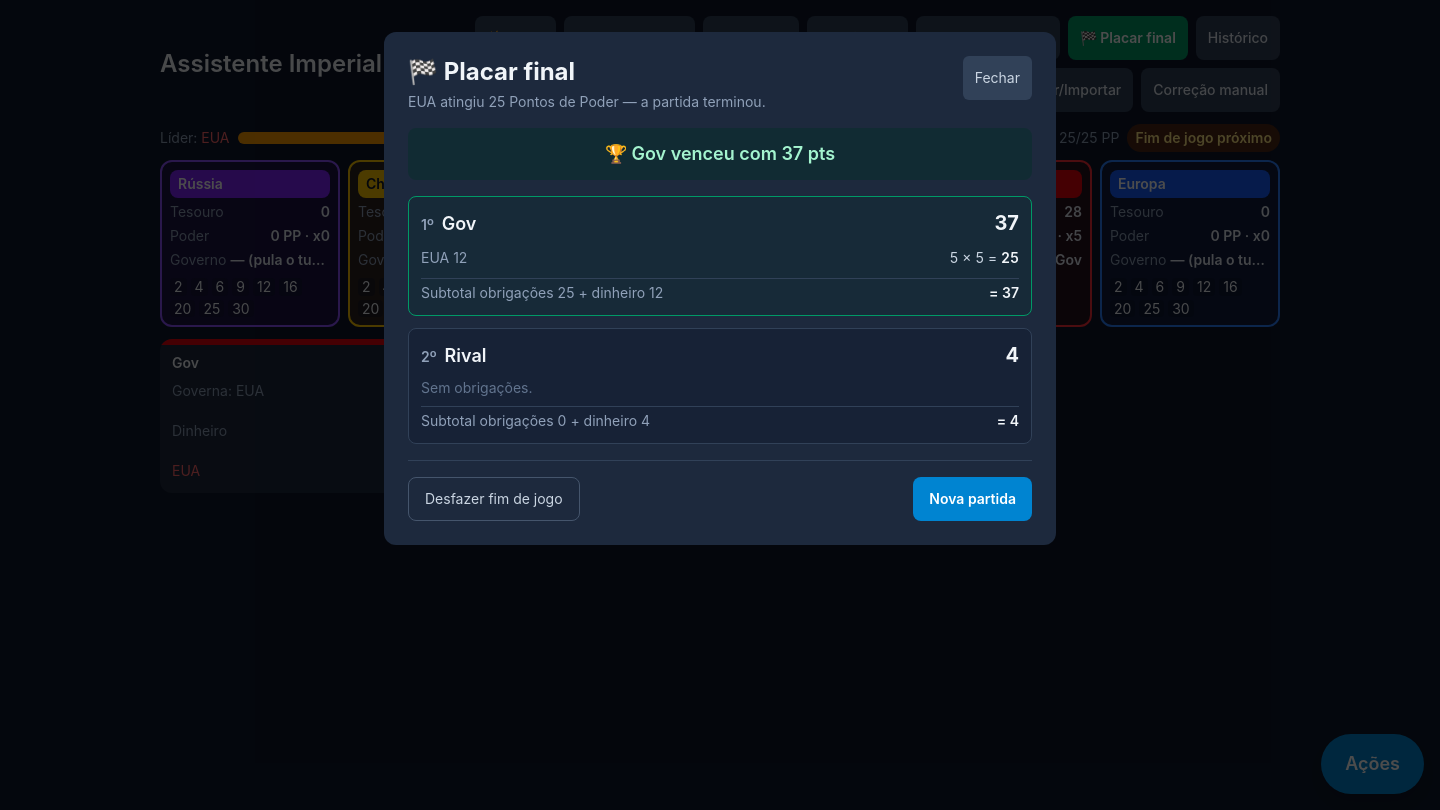
PlacarFinal — fim de jogo ponta a ponta › desfazer o fim de jogo fecha o placar e reabilita as ações
Step 1. Click the button "Desfazer fim de jogo" → point(494, 499), box [408,477,580,521]
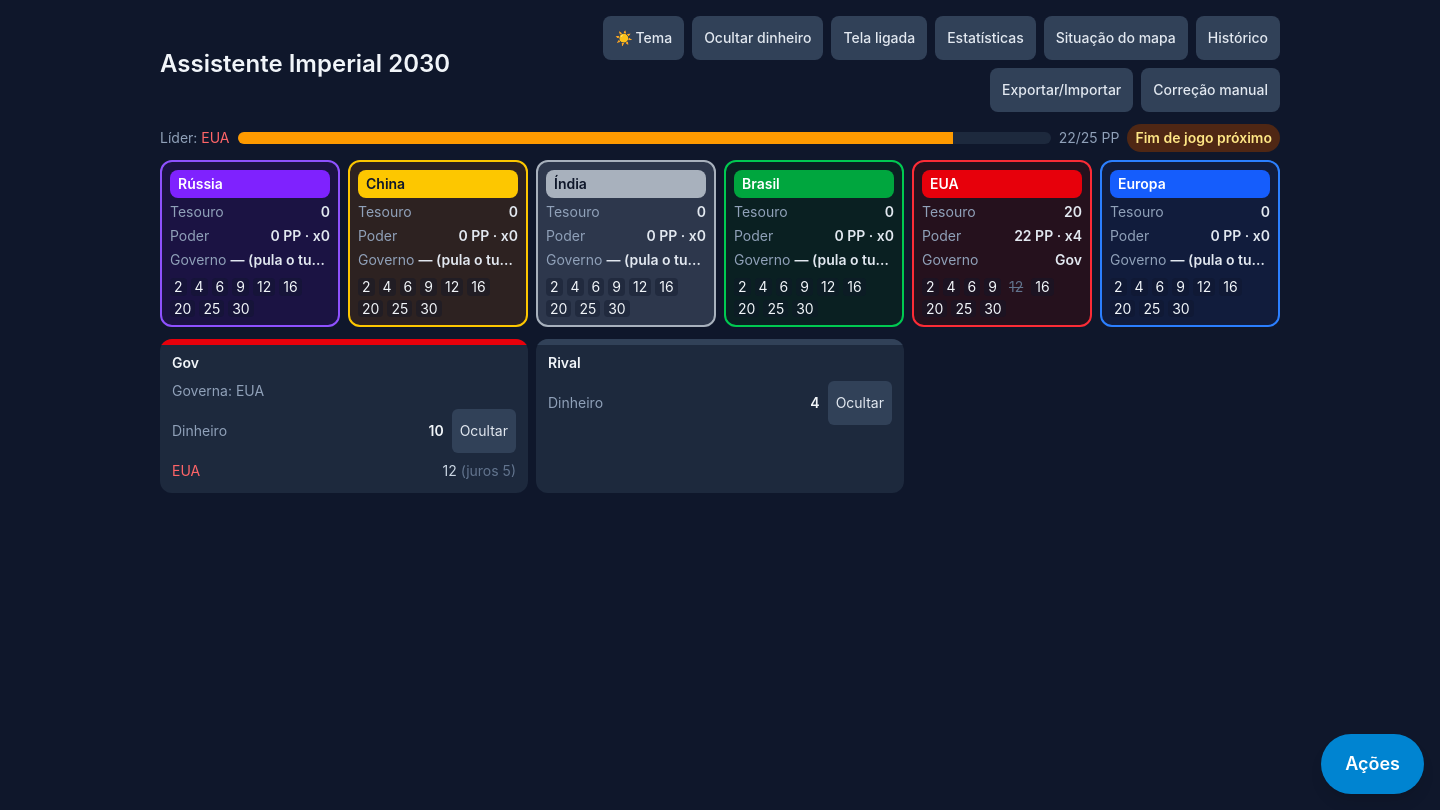
Now the button "Placar final" is gone
Step 2. Click the button "Ações" → point(1373, 764), box [1321,734,1424,794]
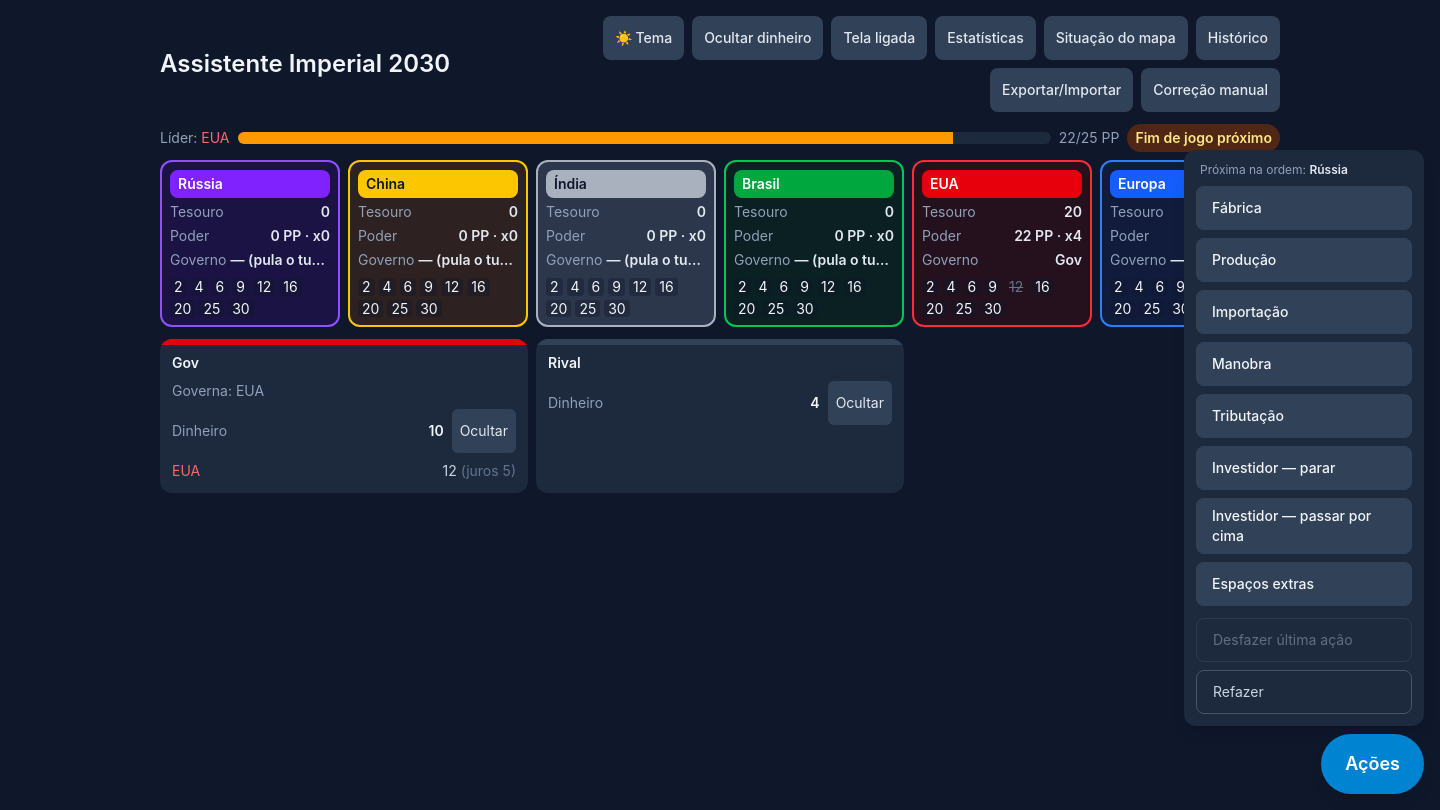
Now the button "Tributação" is shown, box [1196,394,1412,438]
